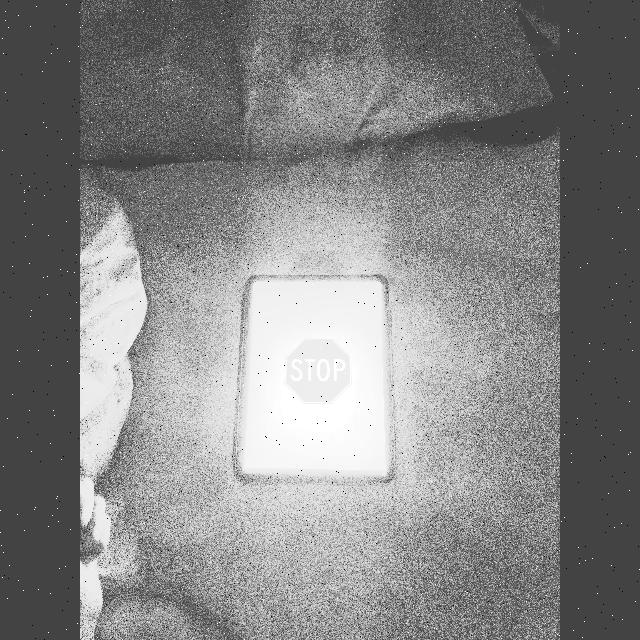STOP: (285, 337, 351, 404)
